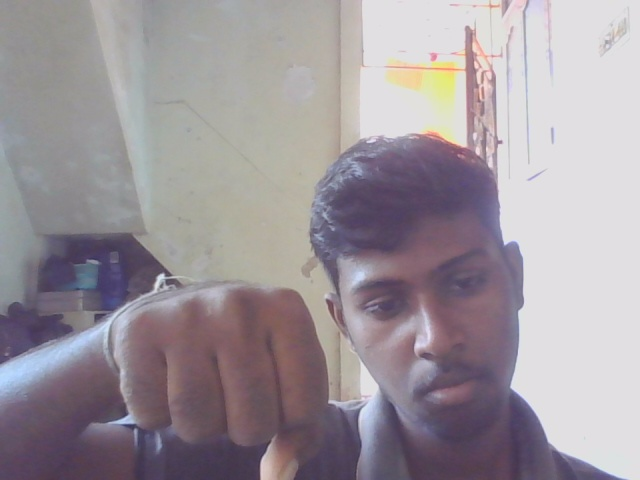No: (93, 274, 357, 480)
